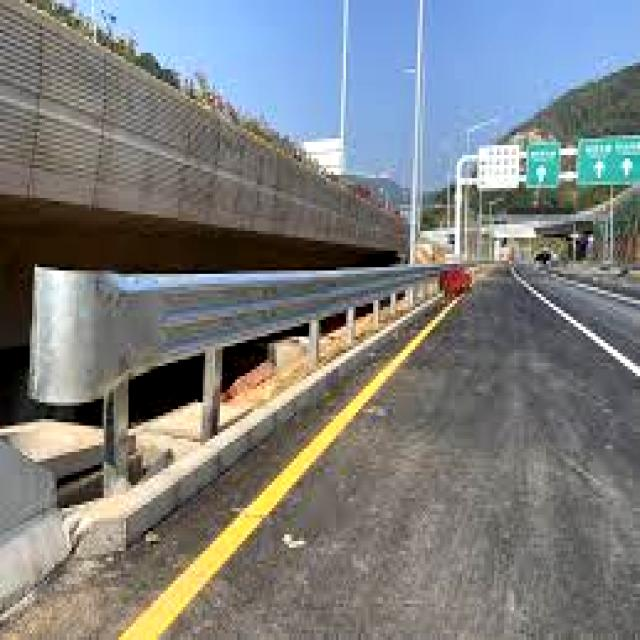Guard rail: (30, 267, 441, 403)
